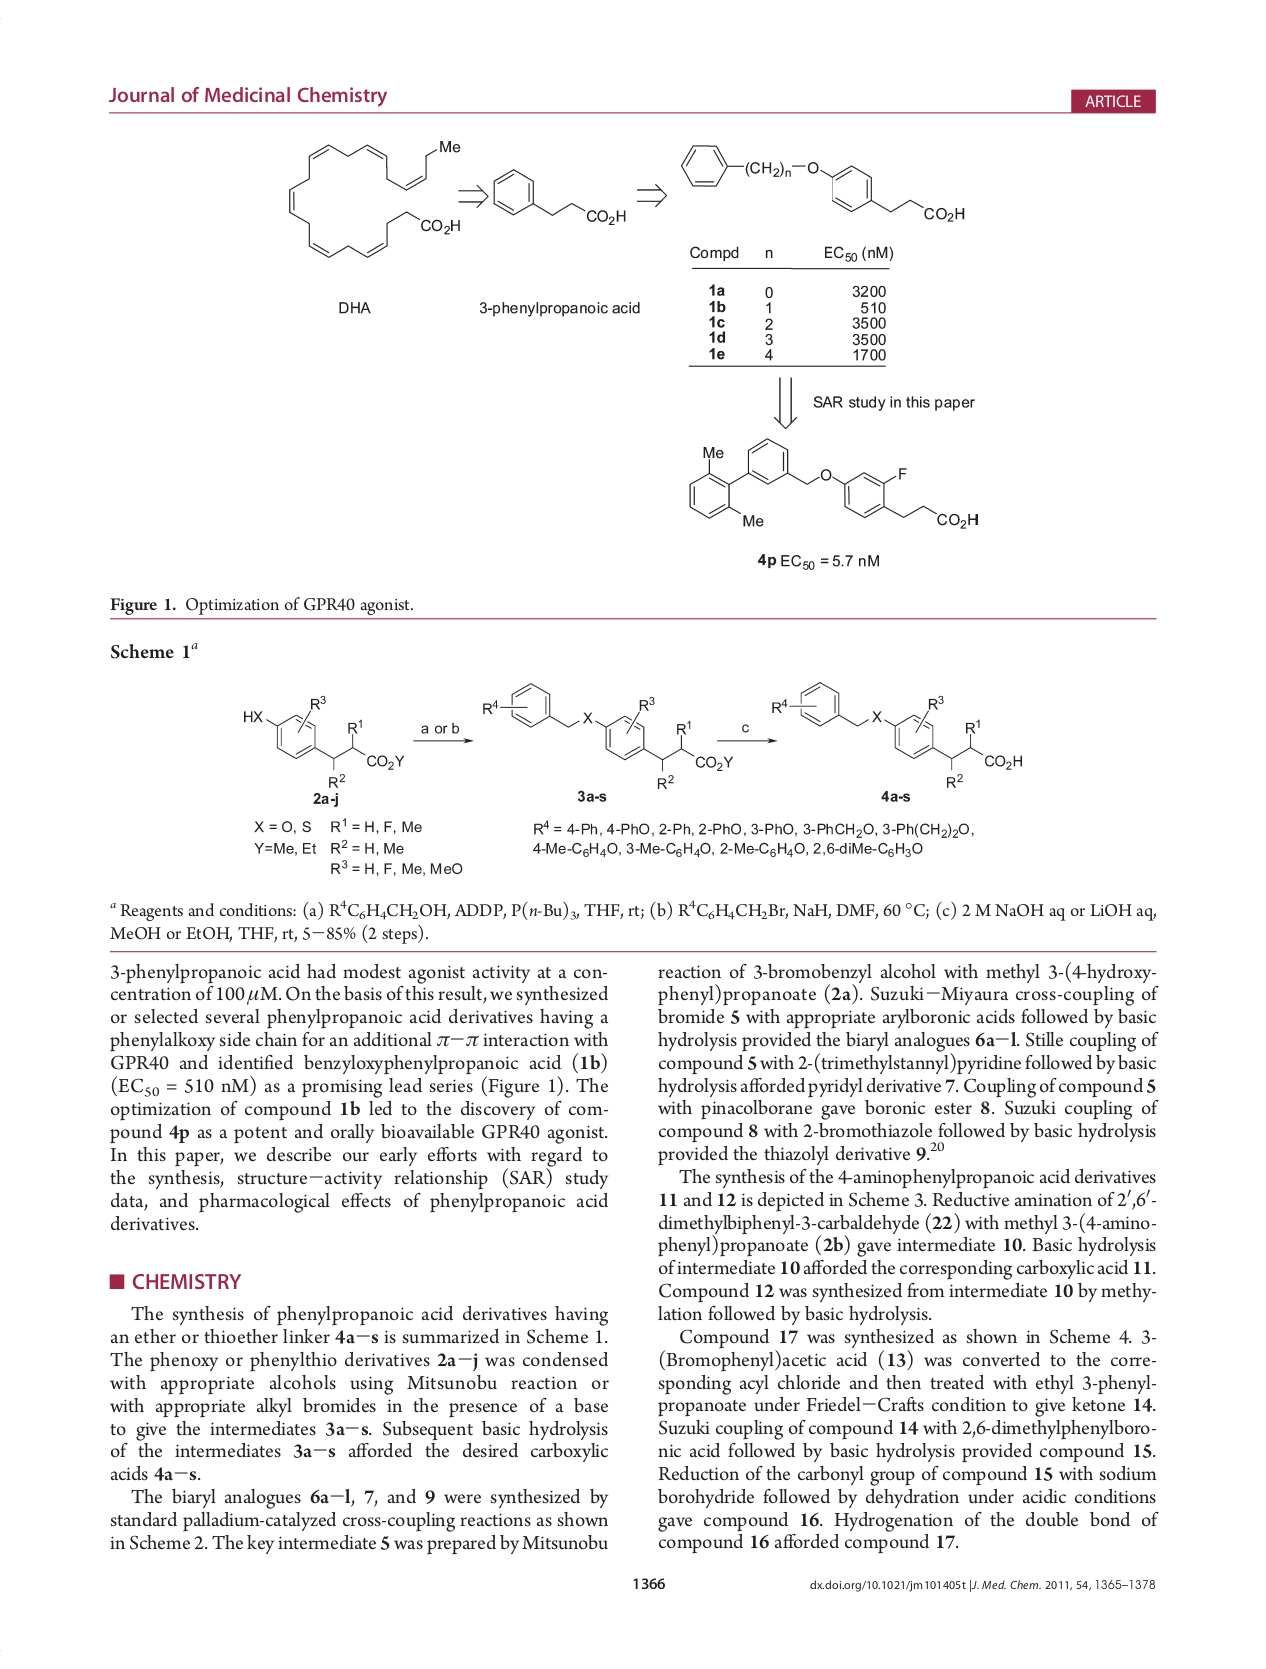exist_molecular: (684, 434, 985, 539), (479, 677, 737, 791), (769, 680, 1027, 791), (677, 138, 971, 227), (283, 136, 465, 261), (239, 692, 406, 790), (489, 162, 632, 231)
